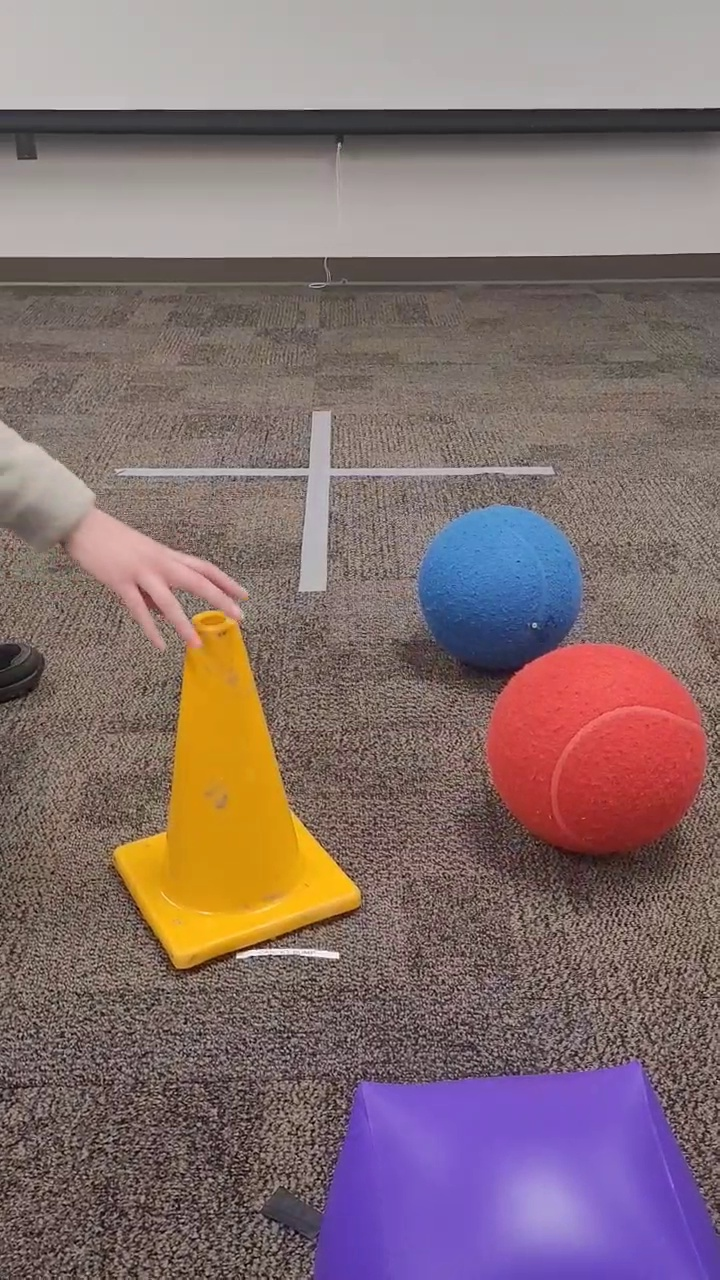ball: (482, 640, 711, 860), (415, 504, 584, 674)
cone: (101, 608, 368, 978)
cube: (308, 1056, 719, 1277)
foot: (1, 638, 48, 708)
hand: (1, 419, 254, 654)
